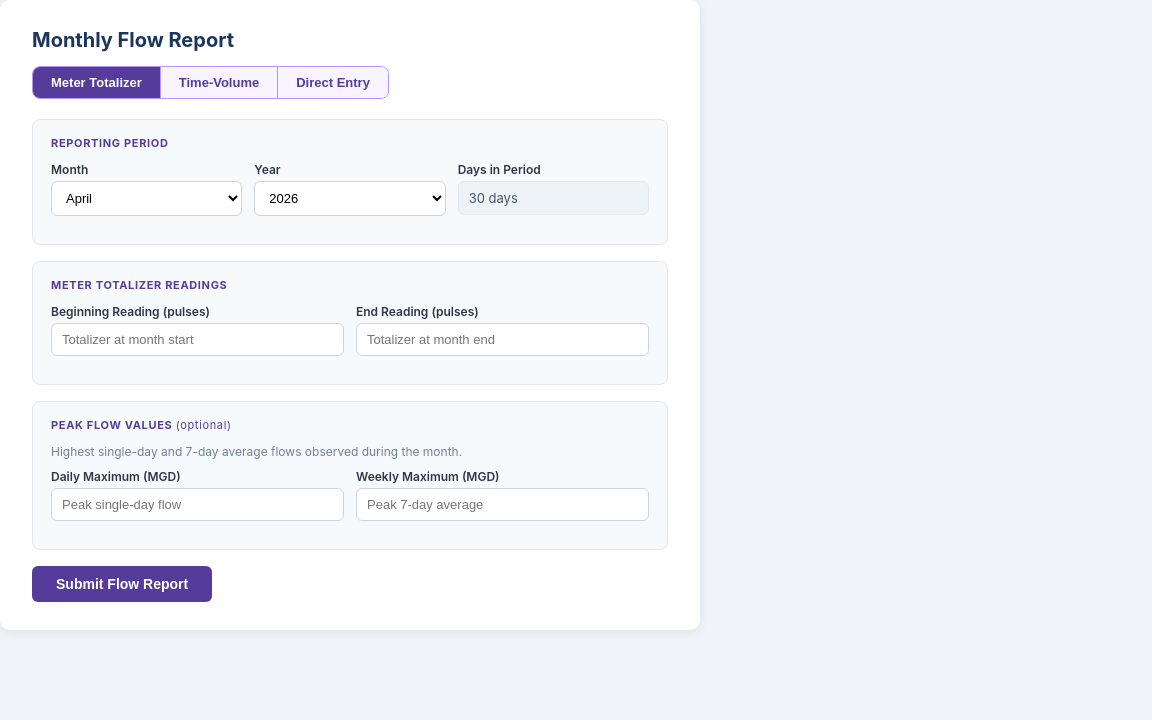
Test: MonthlyFlowForm — meter live calculation › shows total flow when end > beginning (pulseFactor defaults to 1 gal/pulse)
Type "0" into the number field with placeholder "Totalizer at month start" at (198, 340), box [51,323,344,356]
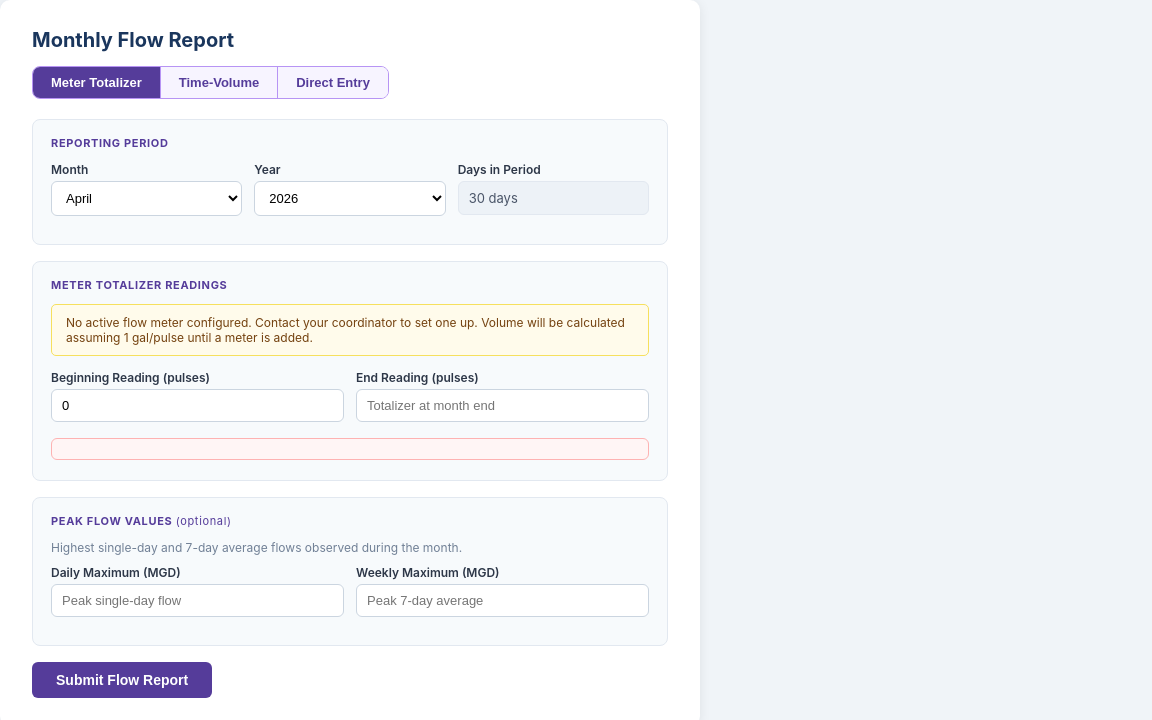
Type "1000000" into the number field with placeholder "Totalizer at month end" at (502, 406), box [356,389,649,422]
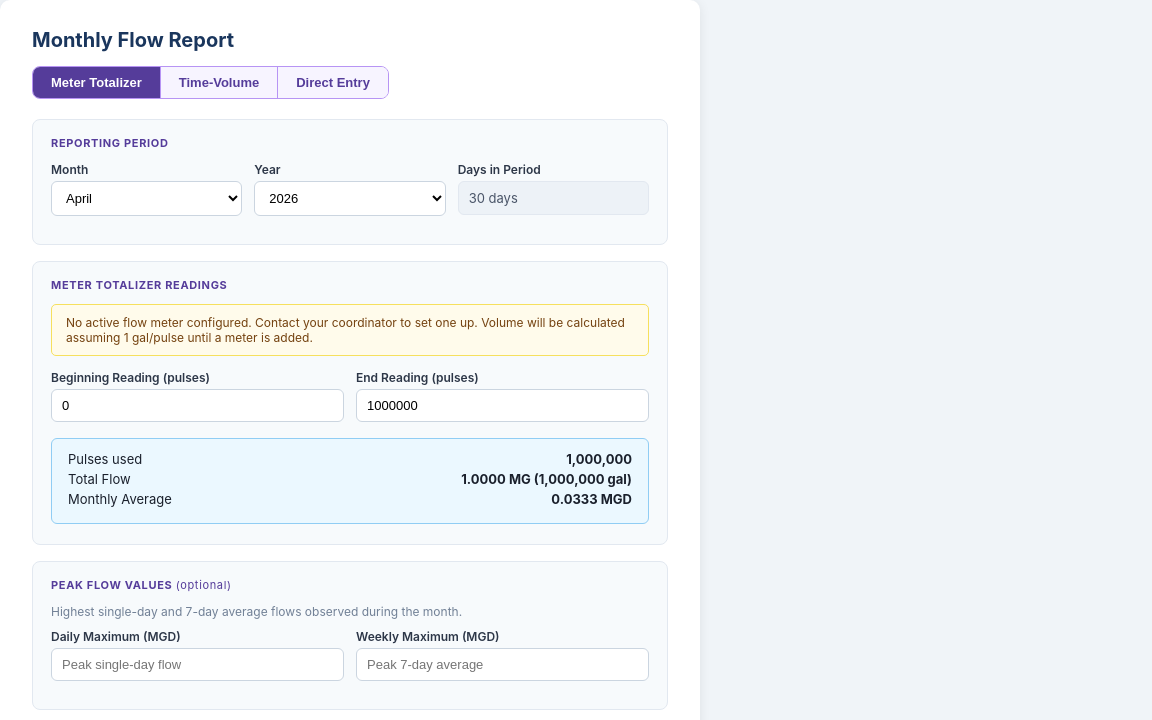
Check: the text "1.0000 MG (1,000,000 gal)" is shown, box [461,471,632,487]
